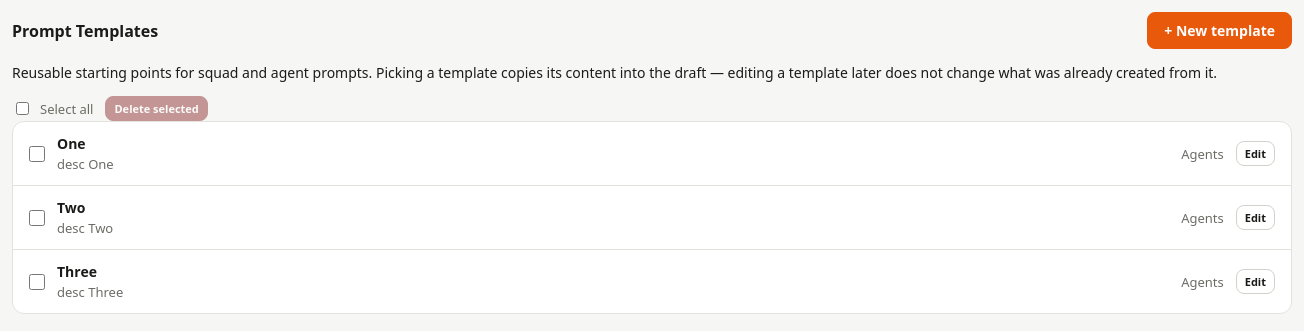
Test: selection + bulk delete › partial selection marks the header checkbox indeterminate
This screenshot has width=1304, height=331.
Click the checkbox named "Select template Two" at [37, 218], box [29,210,45,226]
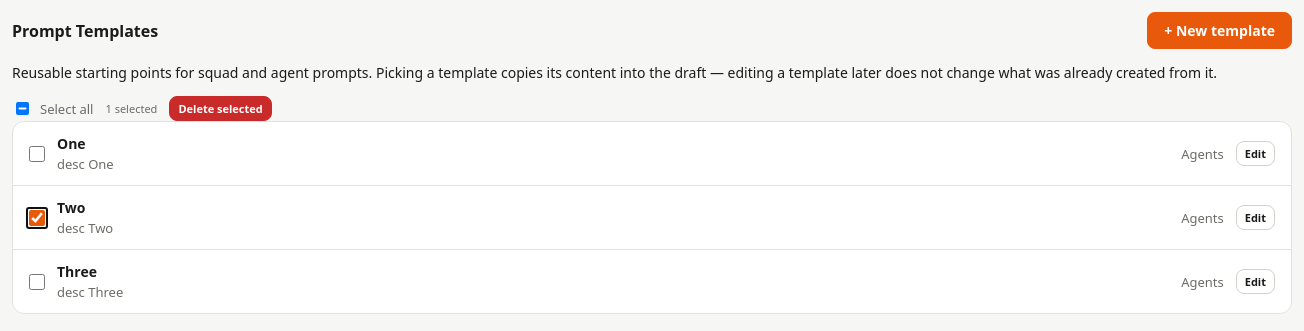
Check: the checkbox named "Select all templates" is not checked, box [16,102,29,115]
Selecting the rest clears indeterminate and checks the header.
Click the checkbox named "Select template One" at [37, 154], box [29,146,45,162]
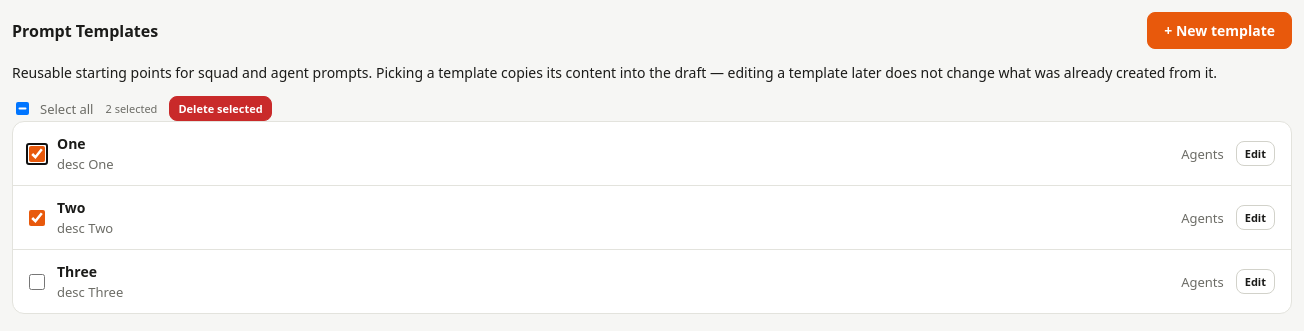
Click the checkbox named "Select template Three" at [37, 282], box [29,274,45,290]
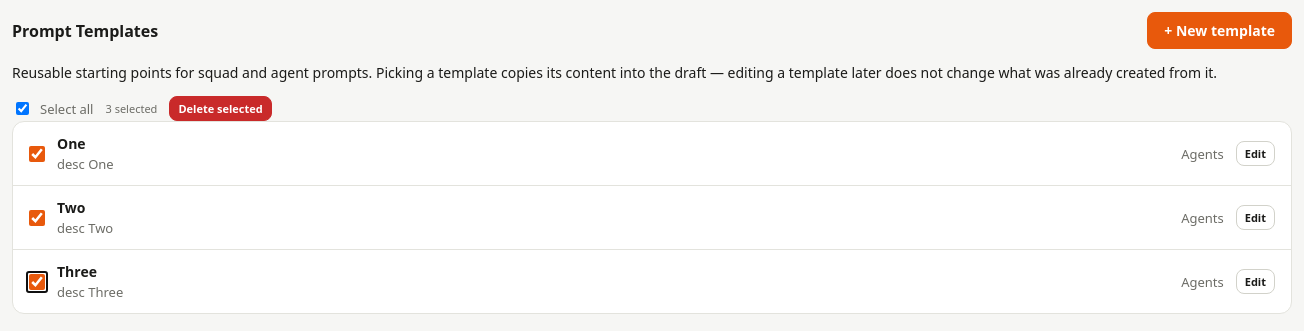
Check: the checkbox named "Select all templates" is checked, box [16,102,29,115]
